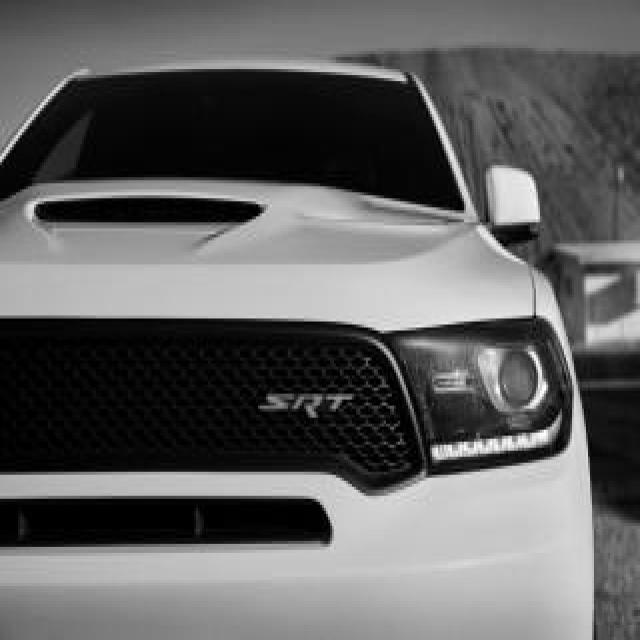Car: (0, 60, 588, 638)
